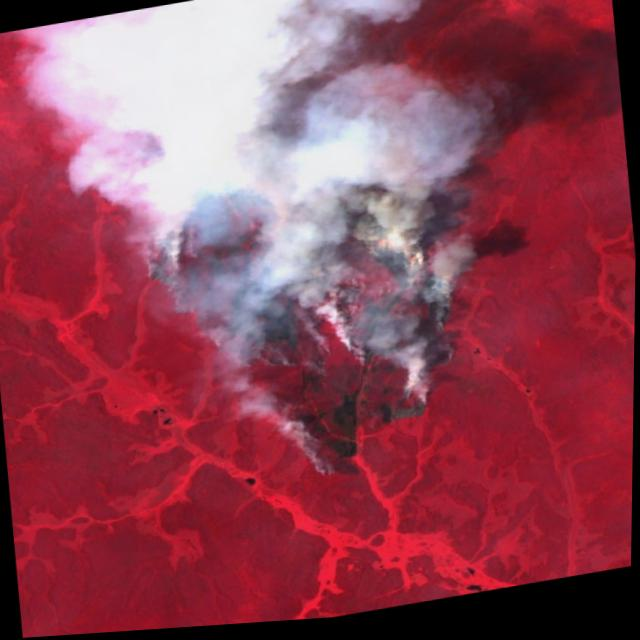fire: (121, 85, 484, 513)
